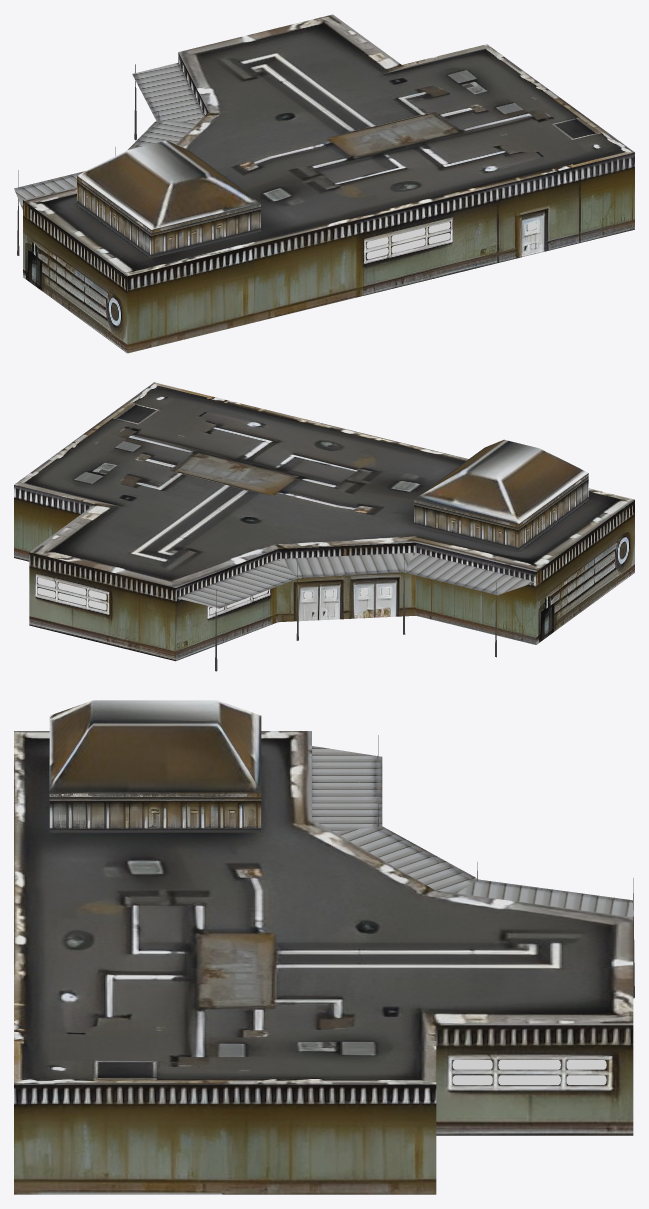
Rendered from factorysm_hdtex.glb.
The picture shows the model from 3 angles, top to bottom: view 1: azimuth 30°, elevation 25°; view 2: azimuth 150°, elevation 25°; view 3: azimuth 270°, elevation 25°; orthographic projection. The views are drawn at different scales.
Visible parts, largest first — view 1: SmFactory, LitWin_FactorySm; view 2: SmFactory, LitWin_FactorySm; view 3: SmFactory, LitWin_FactorySm.
Part boxes in pixels (x1,y1,x2,y2): SmFactory: (14, 14, 634, 353); LitWin_FactorySm: (366, 222, 536, 259); SmFactory: (14, 382, 634, 671); LitWin_FactorySm: (37, 577, 389, 614); SmFactory: (14, 700, 634, 1194); LitWin_FactorySm: (452, 1060, 606, 1084).
Size of the model in its own units: 29.15 by 7.35 by 21.63.
2 materials, 2 textured.
